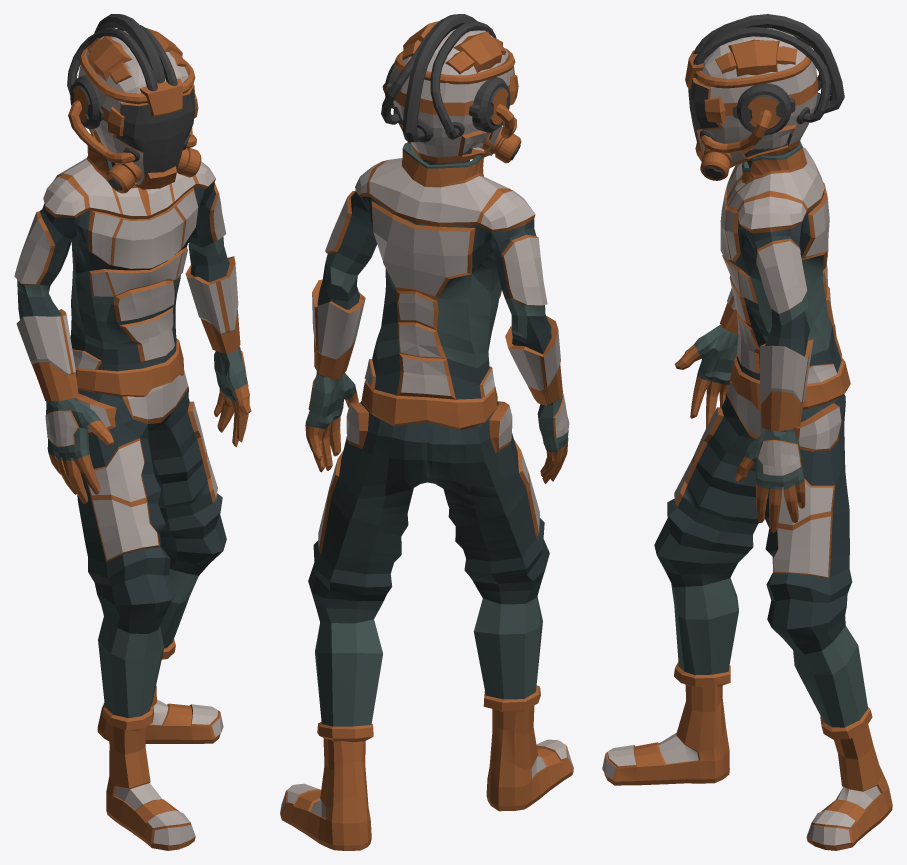
Rendered from quaternius-char-spacesuit.glb.
3 views of the same model, side by side, from view 1: azimuth 30°, elevation 25°; view 2: azimuth 150°, elevation 25°; view 3: azimuth 270°, elevation 25° (orthographic). The views are drawn at different scales.
Parts seen in each view (by area): view 1: SpaceSuit_Body; view 2: SpaceSuit_Body; view 3: SpaceSuit_Body.
Part boxes in pixels (x1,y1,x2,y2): SpaceSuit_Body: (14,14,251,850); SpaceSuit_Body: (280,14,573,850); SpaceSuit_Body: (602,14,892,850).
Bounding box in the file's own units: 0.5874 × 1.85 × 0.6261.
